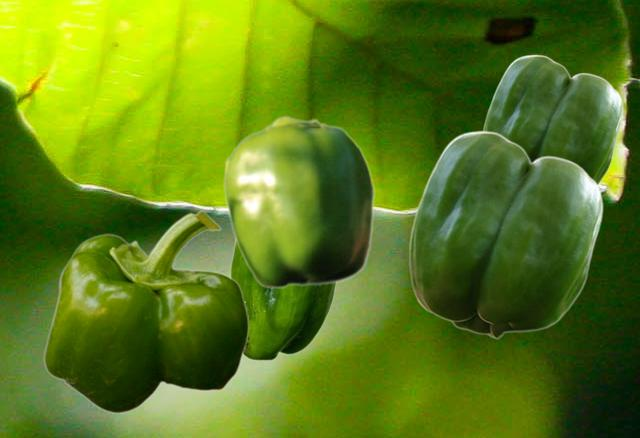bell_pepper: (43, 210, 248, 413), (408, 130, 602, 338), (223, 115, 374, 288), (482, 54, 622, 184), (229, 240, 336, 360)
